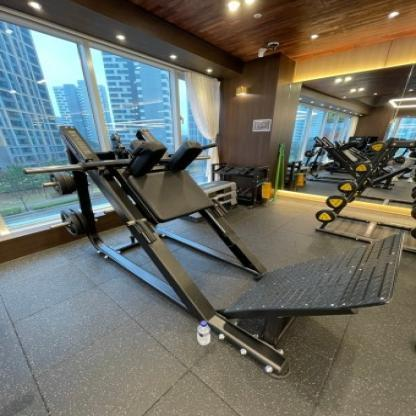leg press: (23, 120, 411, 381)
